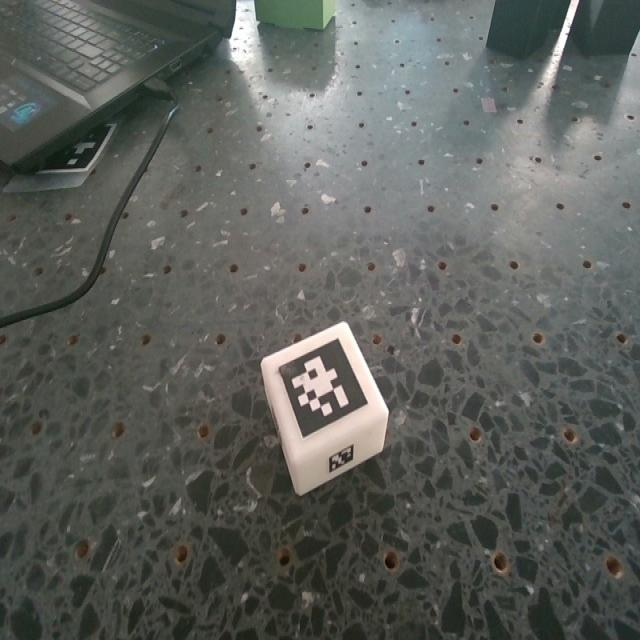Cube: (257, 317, 390, 496)
